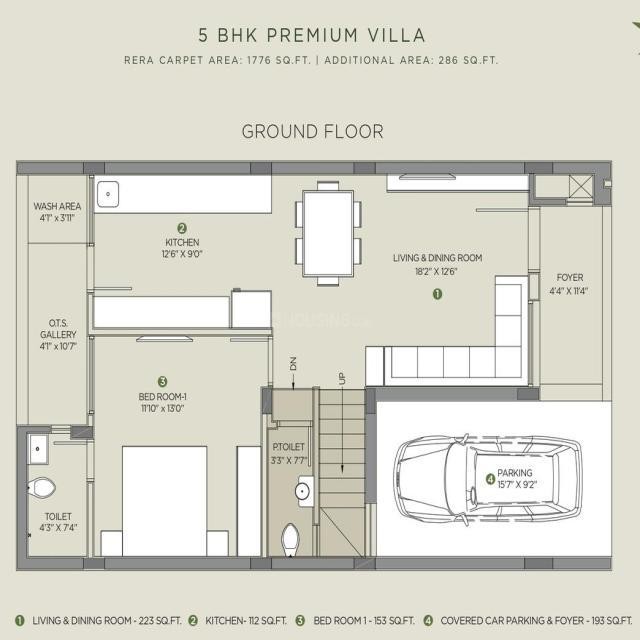Bedroom with Toilet: (18, 331, 268, 570)
Dining: (292, 172, 366, 295)
Kitchen: (91, 163, 268, 333)
Living: (365, 161, 539, 396)
Toilet: (17, 426, 91, 568), (267, 422, 320, 571)
Utility: (26, 161, 98, 245)
